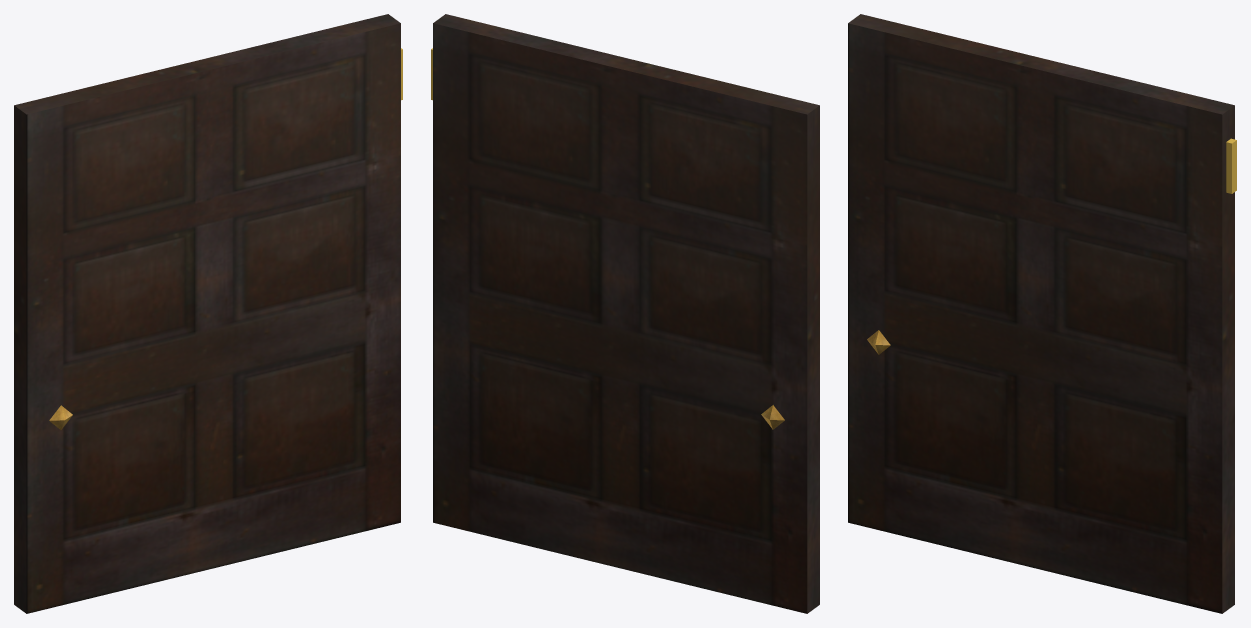
File: MazeGame-Door02.glb
3 renders of one model, left to right at view 1: azimuth 30°, elevation 25°; view 2: azimuth 150°, elevation 25°; view 3: azimuth 330°, elevation 25°, orthographic.
Parts seen in each view (by area): view 1: Door; view 2: Door; view 3: Door, Cube.
Part boxes in pixels (bbox=[...]): Door: bbox=[14, 14, 400, 613]; Door: bbox=[433, 14, 819, 613]; Door: bbox=[848, 14, 1234, 613]; Cube: bbox=[1226, 138, 1236, 193].
Size of the model in its own units: 3.94 by 4.95 by 0.409.
Materials: 2 (1 with a texture image).
